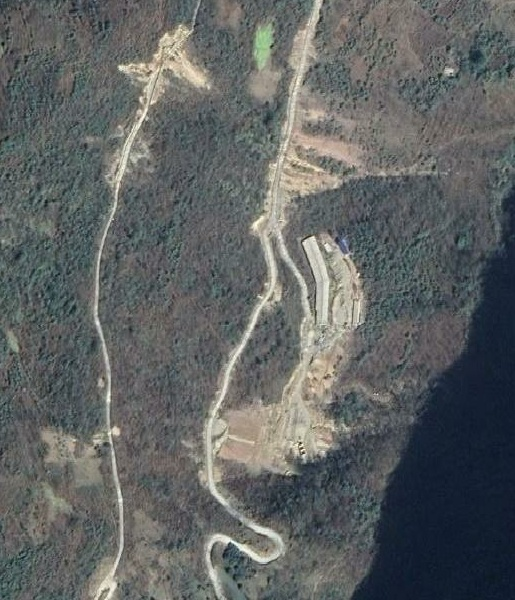slope: (275, 85, 450, 232), (211, 329, 360, 477), (113, 22, 214, 128), (315, 230, 365, 322), (286, 1, 323, 76), (249, 213, 268, 240)
